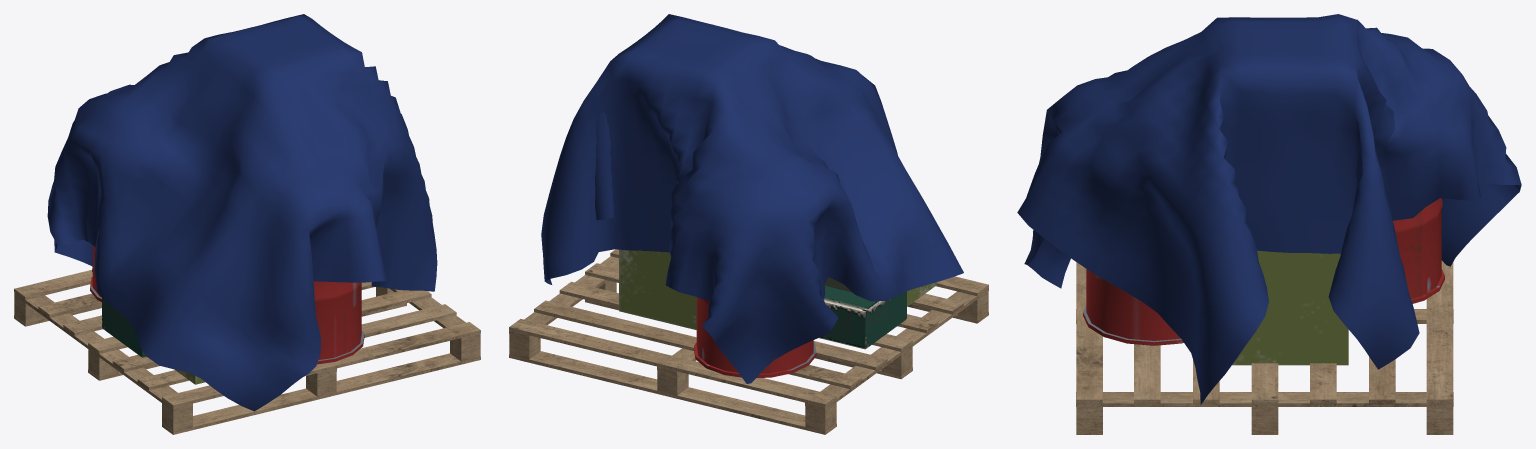
The model's file is Crate.fbx.
3 views of the same model, side by side, from view 1: azimuth 30°, elevation 25°; view 2: azimuth 150°, elevation 25°; view 3: azimuth 270°, elevation 25° (orthographic). The views are drawn at different scales.
Visible parts, largest first — view 1: Plane, Cube.006, Cylinder.002, Cube.009, Cube.004, Cube.014, Cube.005, Cube.015, Cube.010, Cube.017, Cube.013, Cube.002 (+3 smaller); view 2: Plane, Cube.010, Cube.016, Cube.008, Cube.017, Cube.013, Cube.004, Cylinder, Cube.012, Cube.005, Cube.011, Cube.002 (+4 smaller); view 3: Plane, Cube.016, Cylinder.002, Cube.004, Cylinder, Cube.010, Cube.009, Cube.014, Cube.005, Cube.011, Cube.012, Cube.013 (+1 smaller).
Boxes of the visible parts, x1,y1,x2,y2 form: Plane: (47, 14, 437, 411); Cube.006: (162, 353, 480, 434); Cylinder.002: (313, 281, 364, 364); Cube.009: (162, 322, 480, 408); Cube.004: (14, 288, 480, 411); Cube.014: (137, 304, 456, 390); Cube.005: (14, 295, 480, 431); Cube.015: (112, 290, 431, 372); Cube.010: (14, 270, 92, 299); Cube.017: (102, 297, 146, 357); Cube.013: (38, 293, 101, 317); Cube.002: (306, 371, 336, 396); Plane: (541, 14, 963, 383); Cube.010: (509, 319, 836, 407); Cube.016: (619, 249, 696, 329); Cube.008: (509, 351, 836, 434); Cube.017: (819, 286, 906, 349); Cube.013: (534, 300, 861, 389); Cube.004: (509, 256, 988, 410); Cylinder: (694, 297, 816, 377); Cube.012: (559, 281, 887, 370); Cube.005: (509, 291, 988, 431); Cube.011: (585, 263, 912, 351); Cube.002: (657, 370, 688, 395); Plane: (1017, 14, 1521, 404); Cube.016: (1232, 250, 1348, 365); Cylinder.002: (1083, 269, 1183, 345); Cube.004: (1076, 392, 1453, 406); Cylinder: (1393, 198, 1444, 303); Cube.010: (1426, 260, 1453, 403); Cube.009: (1076, 262, 1102, 403); Cube.014: (1134, 344, 1160, 403); Cube.005: (1076, 407, 1453, 431); Cube.011: (1251, 363, 1278, 403); Cube.012: (1310, 363, 1336, 403); Cube.013: (1369, 357, 1395, 403).
Bounding box in the file's own units: 249 × 202 × 278.
